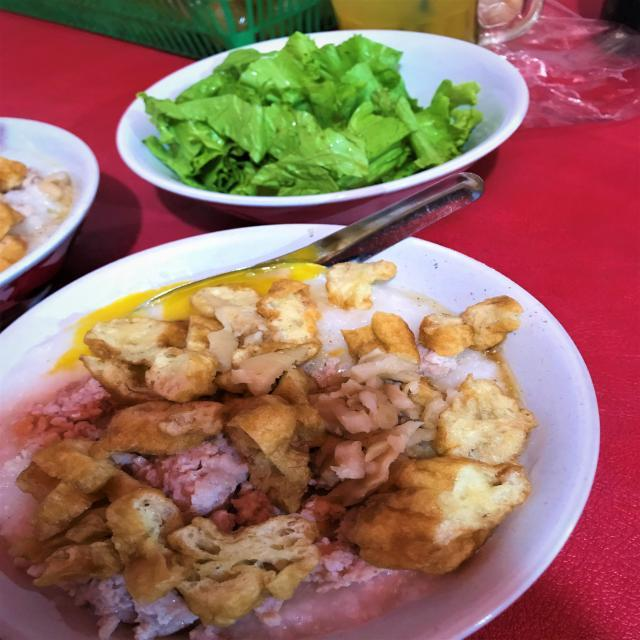bubur ayam: (0, 268, 523, 638)
mangkuk: (0, 219, 601, 640), (114, 29, 530, 224), (0, 117, 101, 314)
